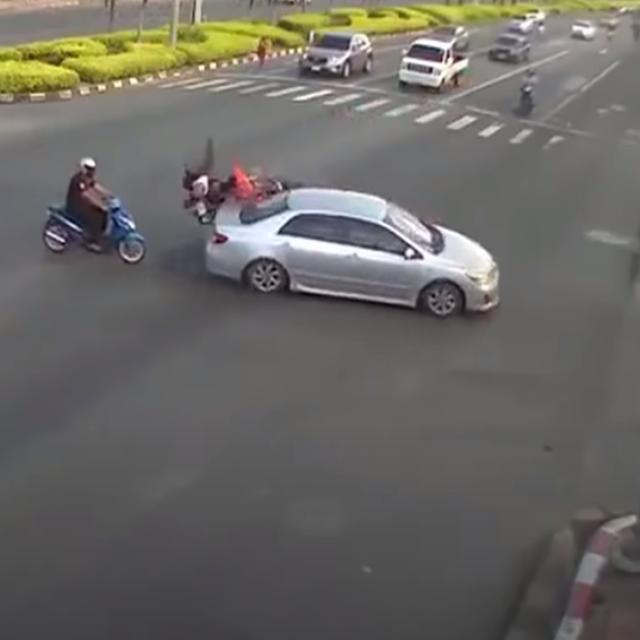accident: (175, 135, 502, 323)
non-accident: (398, 22, 472, 92), (485, 14, 535, 66), (505, 7, 547, 38)
